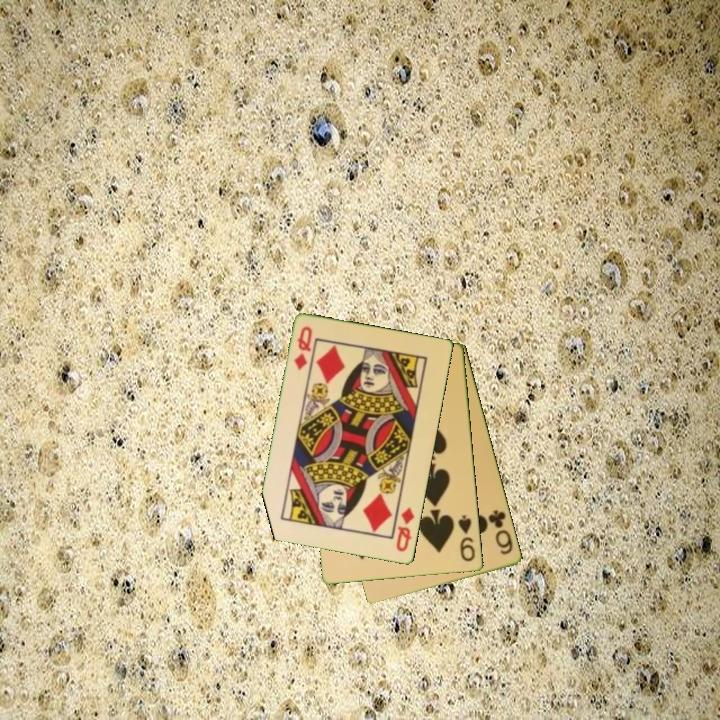6c: (485, 506, 516, 558)
9s: (455, 512, 478, 565)
Qd: (393, 504, 417, 555), (291, 323, 315, 373)
